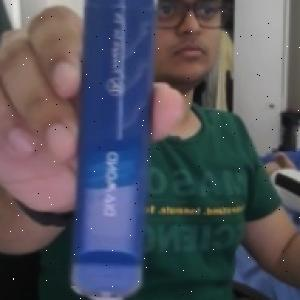Diamond-E-Ciggirate: (68, 0, 152, 300)
